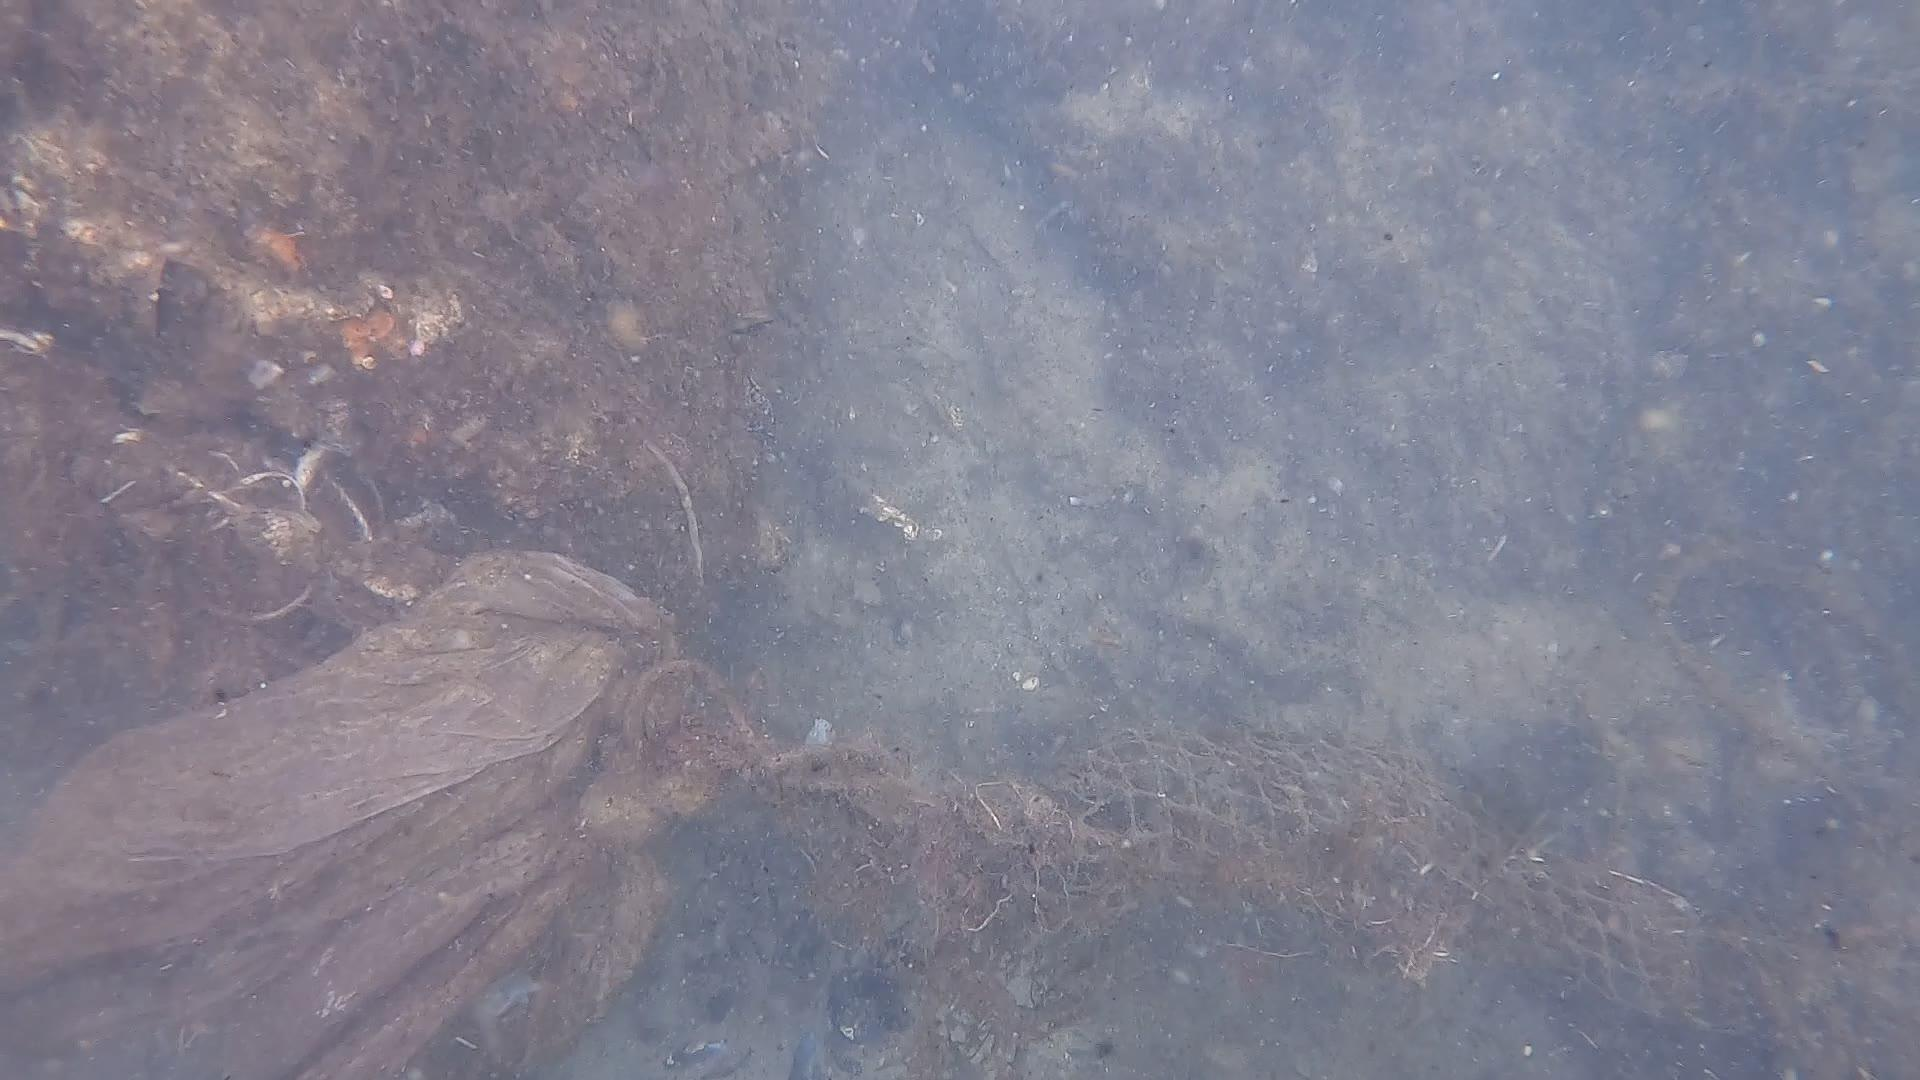fish net: (836, 702, 1708, 1080)
